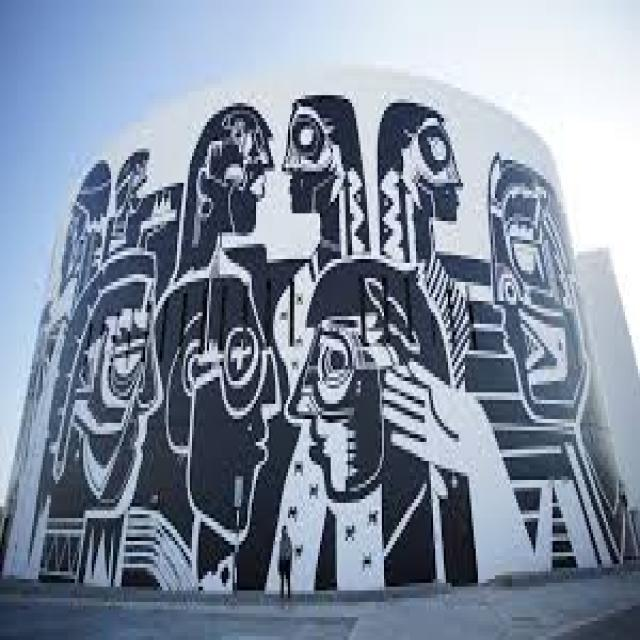-: (18, 90, 638, 578)
